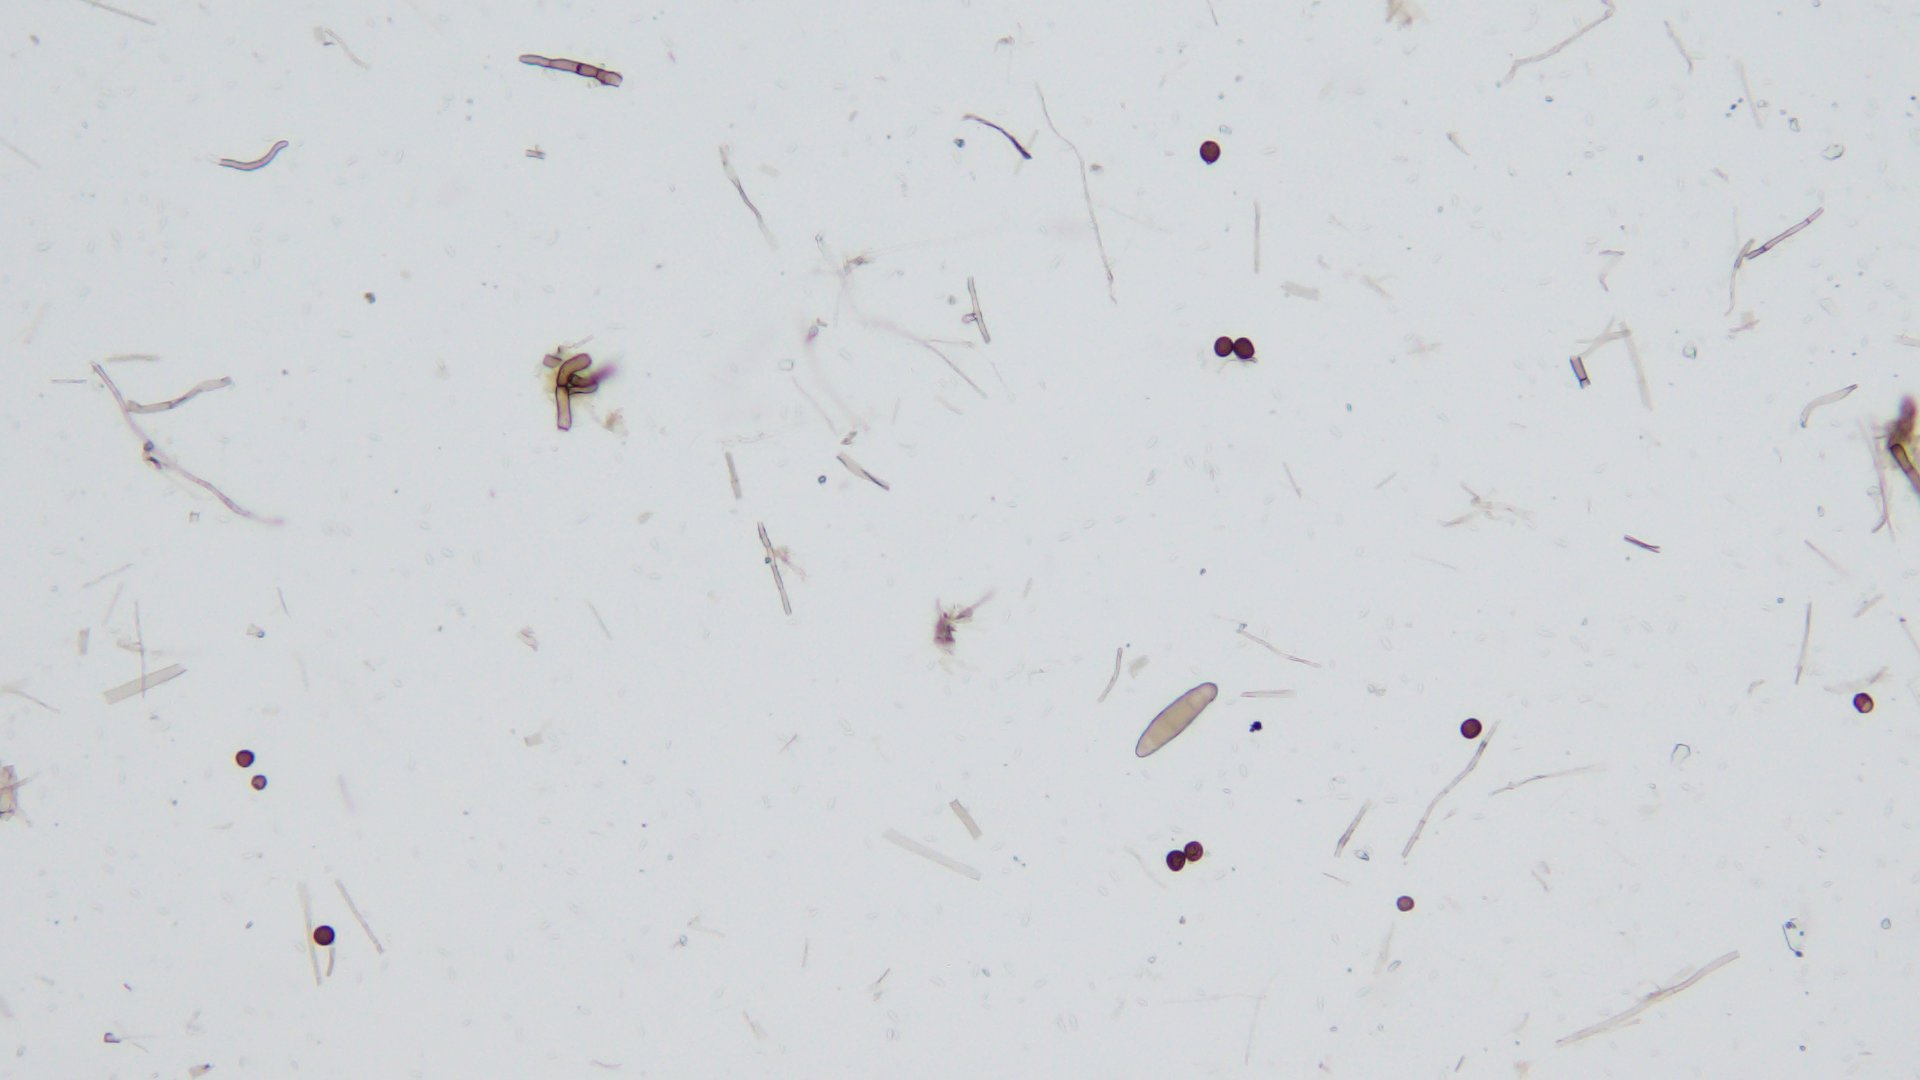dbb_spore: (1134, 683, 1217, 757)
shs_spore: (1851, 690, 1875, 717), (1232, 335, 1255, 359), (313, 924, 336, 947), (1199, 140, 1221, 164), (1162, 849, 1185, 870), (1458, 717, 1482, 738), (1183, 843, 1205, 862), (1215, 338, 1233, 359), (232, 752, 255, 766)
